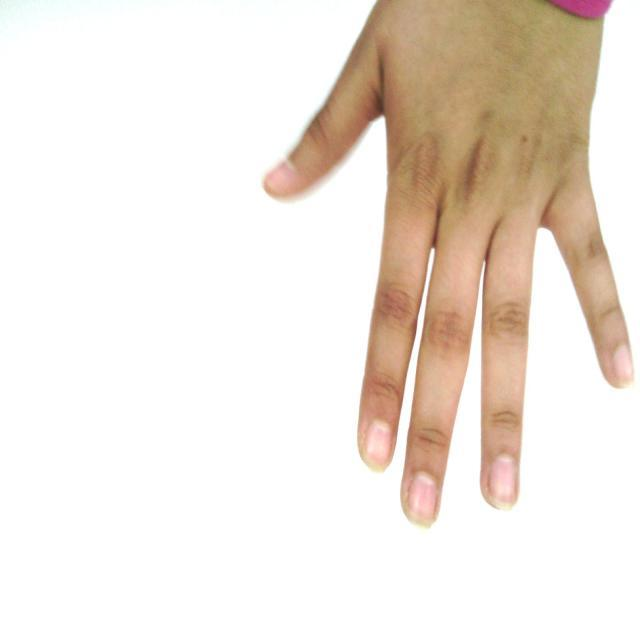Fingernail: (407, 474, 437, 527), (490, 456, 517, 510), (365, 422, 392, 471), (266, 163, 297, 190), (613, 345, 633, 385)
